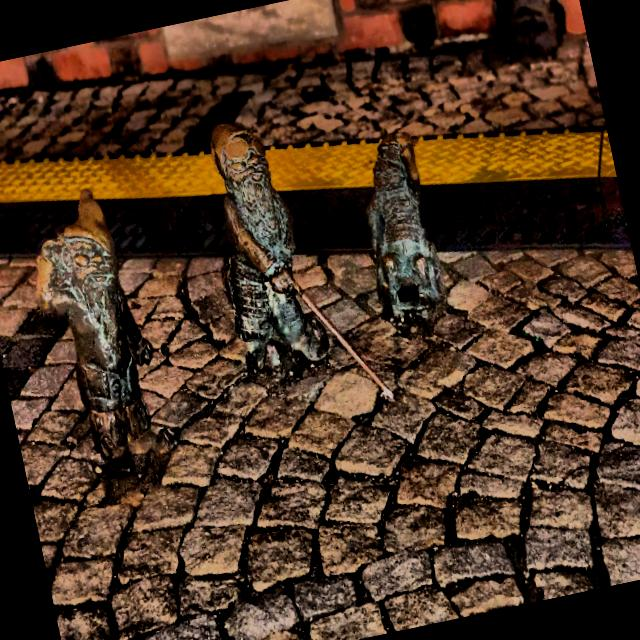Gluchak: (37, 189, 154, 474)
Slepak: (210, 122, 391, 398)
W-Skers: (368, 133, 445, 320)
